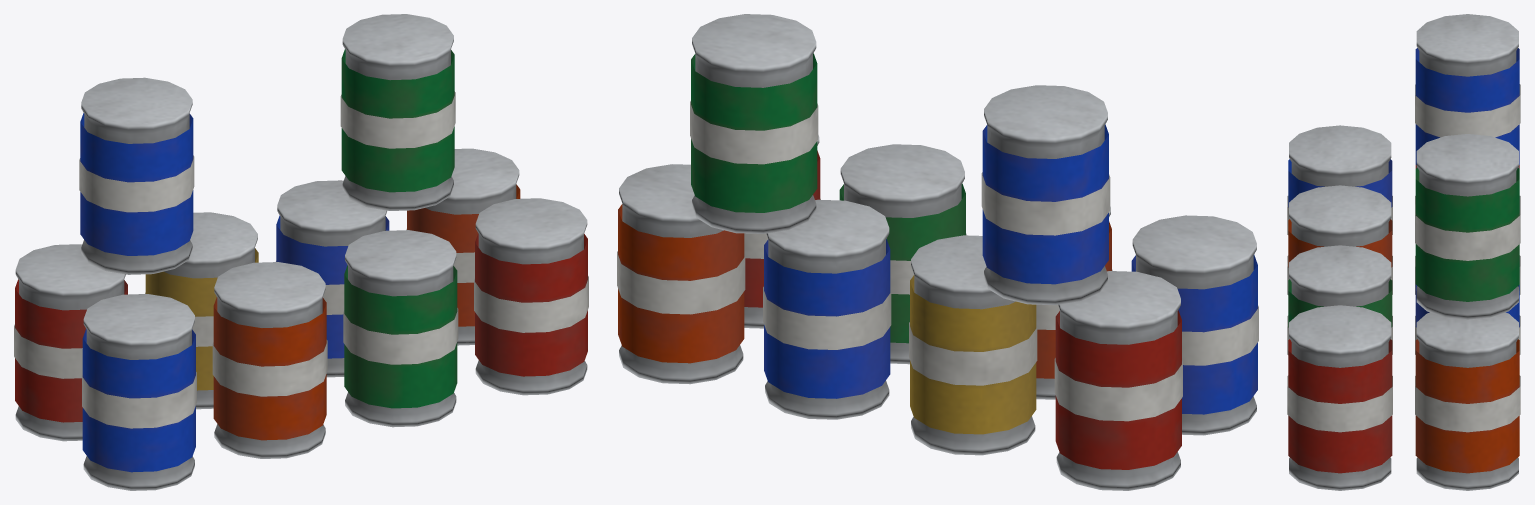
Rendered from sklep_polka_puszki.glb.
The picture shows the model from 3 angles, left to right: view 1: azimuth 30°, elevation 25°; view 2: azimuth 150°, elevation 25°; view 3: azimuth 270°, elevation 25°; orthographic projection. The views are drawn at different scales.
Parts seen in each view (by area): view 1: Puszki; view 2: Puszki; view 3: Puszki.
Part boxes in pixels (box(x1,y1,x2,y2)): Puszki: box(14, 14, 588, 490); Puszki: box(617, 14, 1258, 490); Puszki: box(1287, 14, 1520, 490).
Size of the model in its own units: 0.3764 by 0.22 by 0.1645.
1 material, 1 textured.
